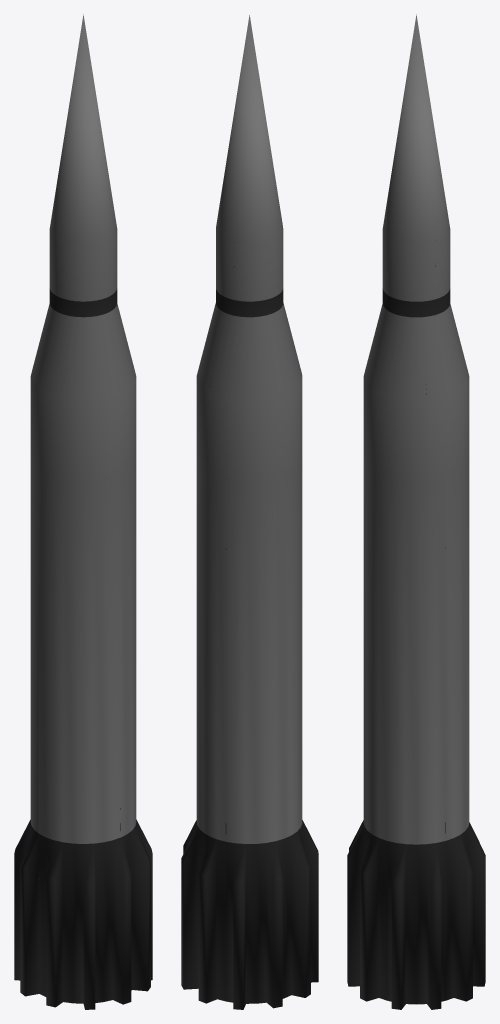
File: Rocket.glb
3 renders of one model, left to right at view 1: azimuth 90°, elevation 25°; view 2: azimuth 210°, elevation 25°; view 3: azimuth 270°, elevation 25°, orthographic.
Visible parts, largest first — view 1: Cylinder; view 2: Cylinder; view 3: Cylinder.
Part boxes in pixels (x1,y1,x2,y2): Cylinder: (14,14,152,1009); Cylinder: (181,15,318,1009); Cylinder: (347,14,485,1009).
Size of the model in its own units: 16.03 by 125 by 16.22.
Materials: 1 (1 with a texture image).
